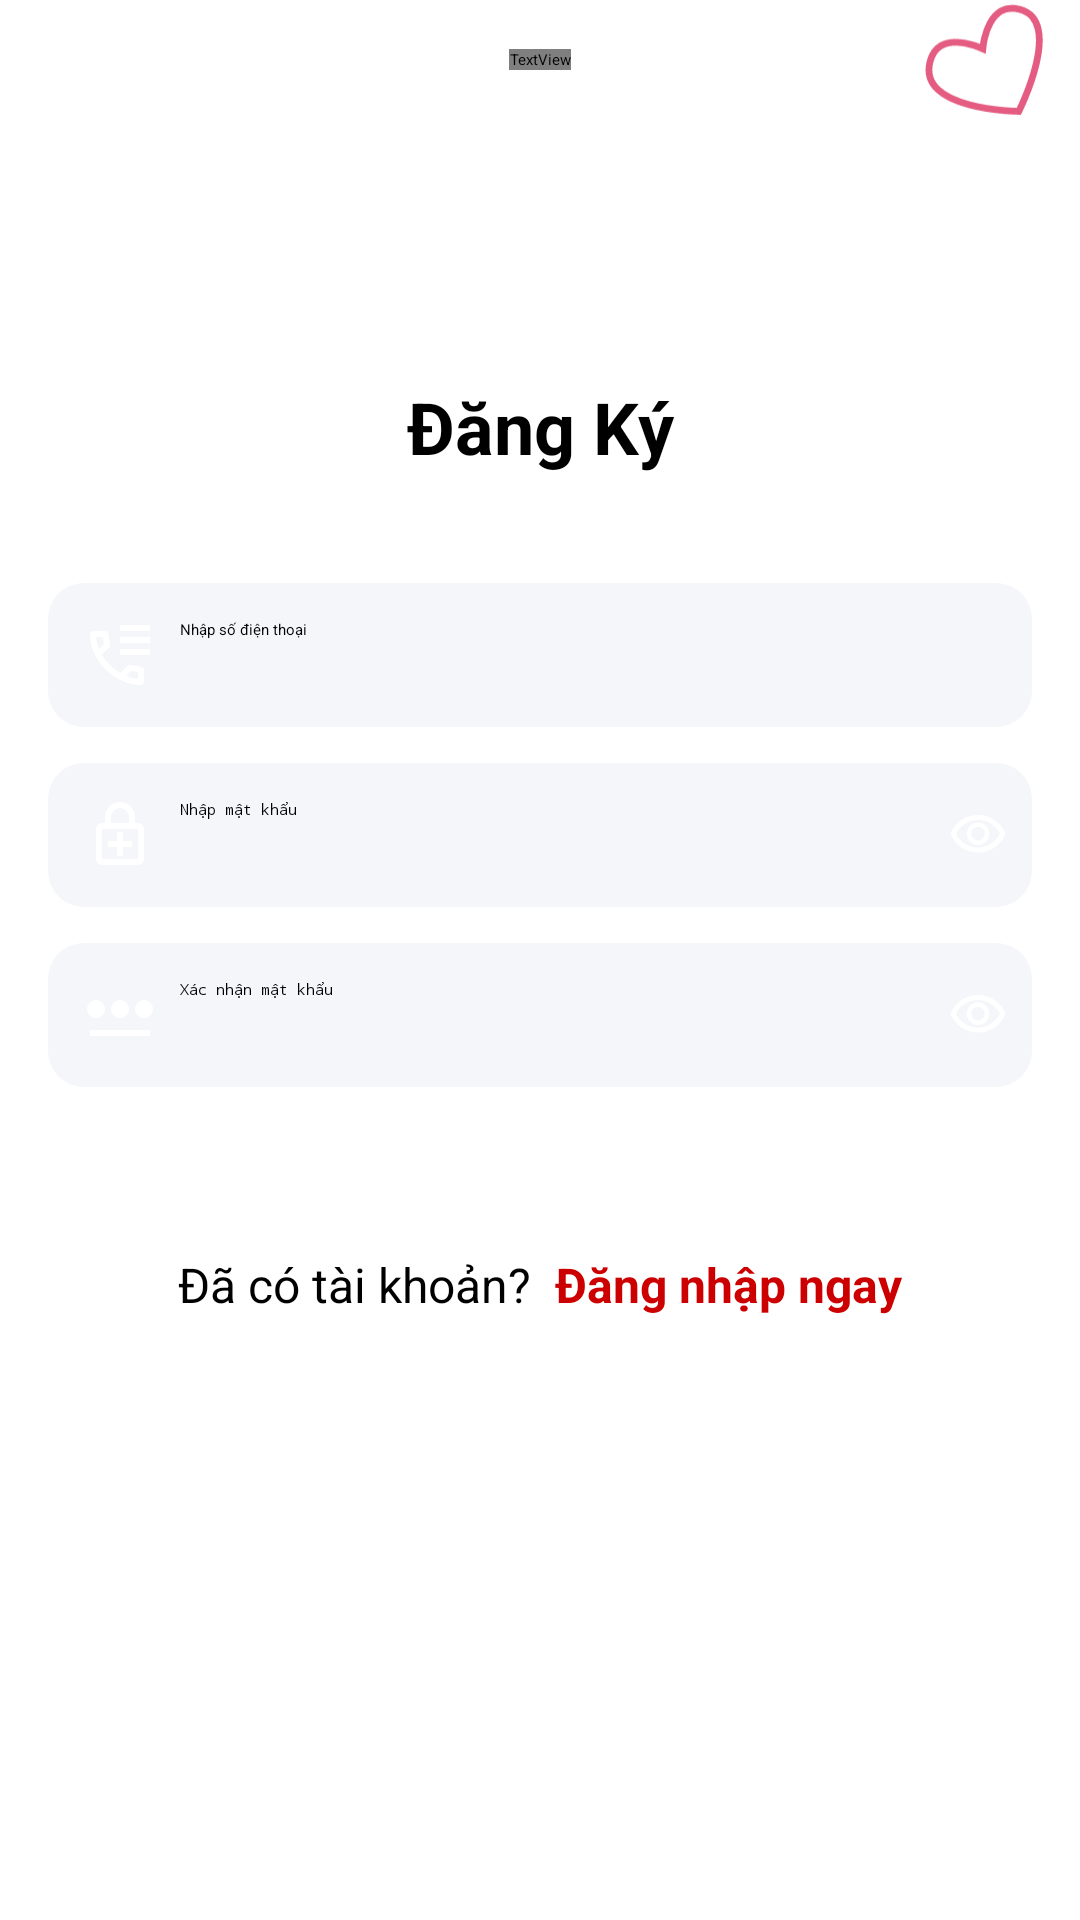

Named icons in this screenshot (1080*1920) and their centers, [x,y]:
Love icon: [984,59]
